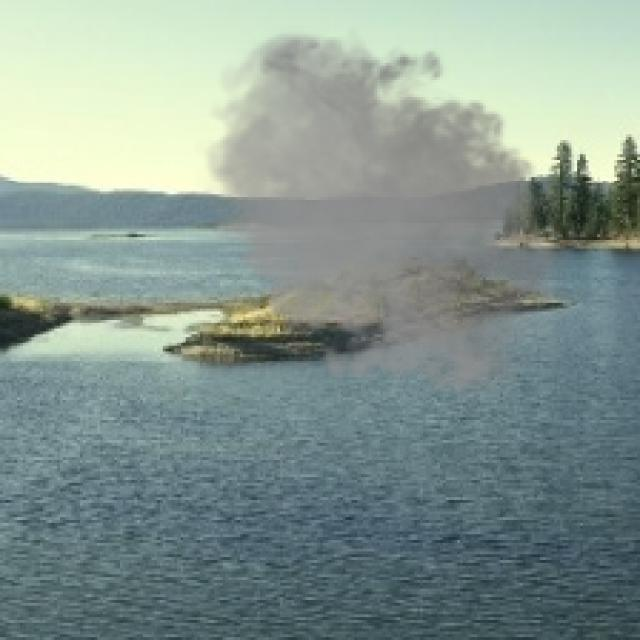Smoke: (194, 26, 586, 406)
